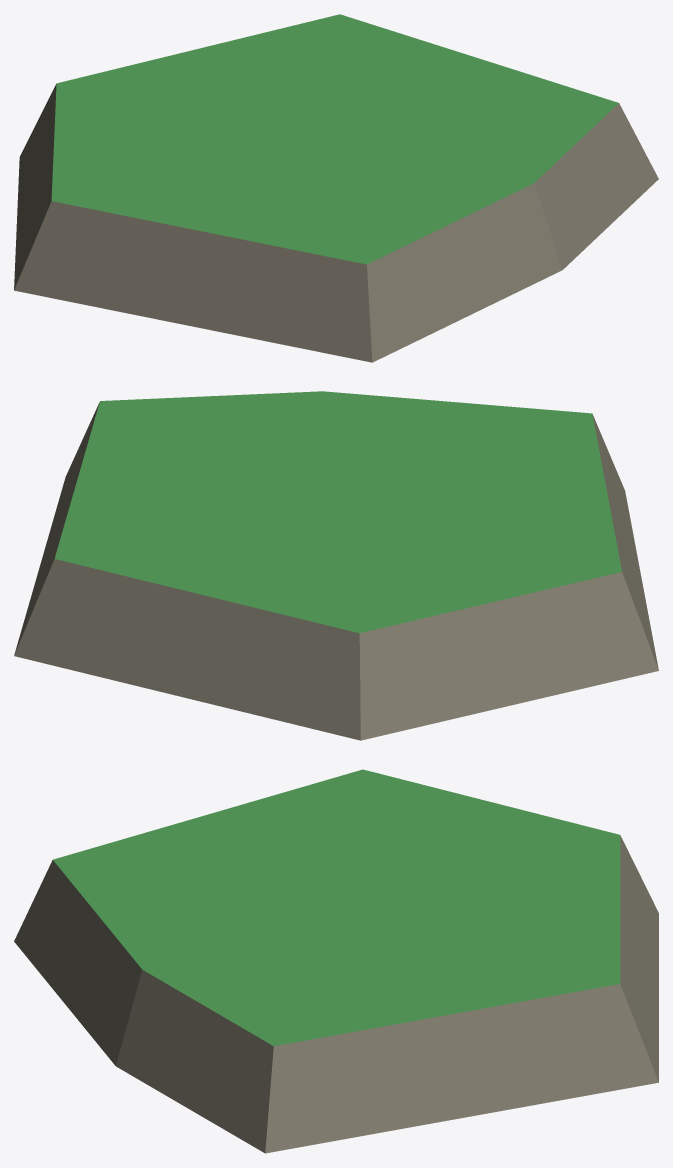
File: rock-flat.glb
3 views of the same model, one above another, from view 1: azimuth 30°, elevation 25°; view 2: azimuth 150°, elevation 25°; view 3: azimuth 270°, elevation 25° (orthographic). The views are drawn at different scales.
Parts seen in each view (by area): view 1: rock-flat; view 2: rock-flat; view 3: rock-flat.
Boxes of the visible parts, x1=… form: rock-flat: x1=14, y1=14, x2=658, y2=362; rock-flat: x1=14, y1=391, x2=658, y2=740; rock-flat: x1=14, y1=769, x2=658, y2=1153.
Size of the model in its own units: 2.14 by 0.28 by 1.85.
